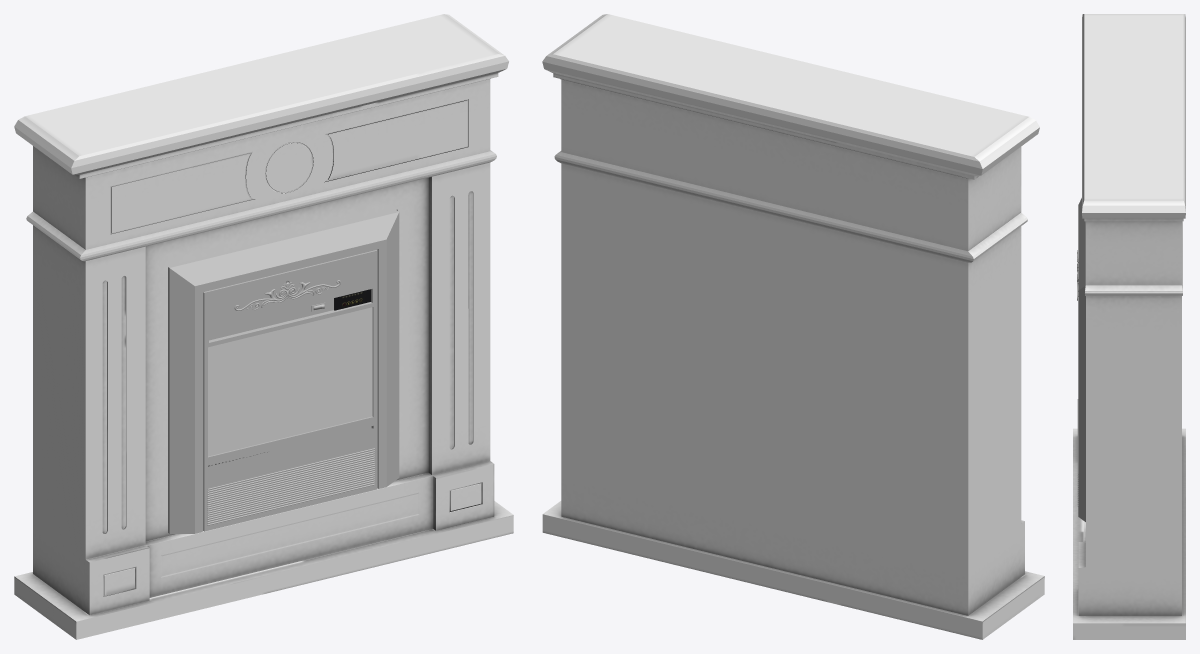
File: Ares.fbx
3 views of the same model, side by side, from view 1: azimuth 30°, elevation 25°; view 2: azimuth 150°, elevation 25°; view 3: azimuth 270°, elevation 25° (orthographic). The views are drawn at different scales.
Visible parts, largest first — view 1: Cube.056; view 2: Cube.056; view 3: Cube.056.
Part boxes in pixels (<box>): Cube.056: <box>14,14,513,639</box>; Cube.056: <box>542,14,1044,639</box>; Cube.056: <box>1073,14,1185,639</box>.
Size of the model in its own units: 196 by 204 by 48.
